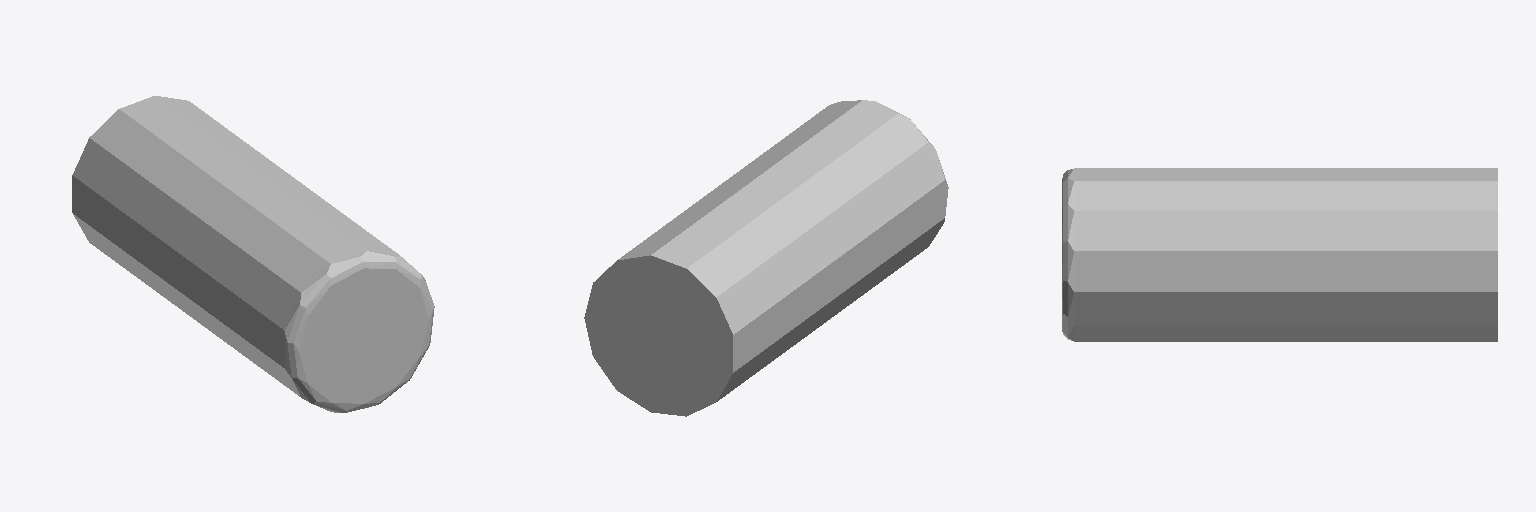
Rendered from Pair.obj.
The picture shows the model from 3 angles: view 1: azimuth 30°, elevation 25°; view 2: azimuth 150°, elevation 25°; view 3: azimuth 270°, elevation 25°; orthographic projection.
Visible parts, largest first — view 1: Pair; view 2: Pair; view 3: Pair.
Boxes of the visible parts, <box> form: Pair: <box>72,96,434,412</box>; Pair: <box>584,100,948,416</box>; Pair: <box>1062,168,1497,341</box>.
Size of the model in its own units: 2.76 by 2.78 by 7.